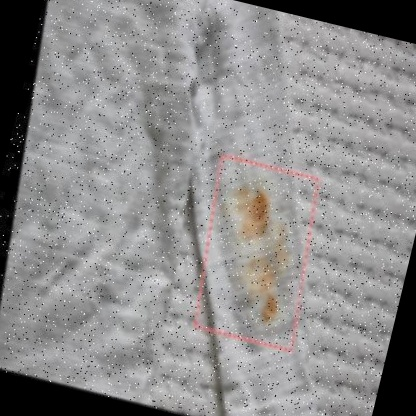kimchi: (200, 171, 307, 334)
